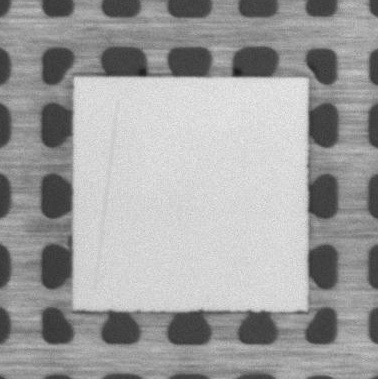DIE_CRACK: (95, 100, 118, 289)
